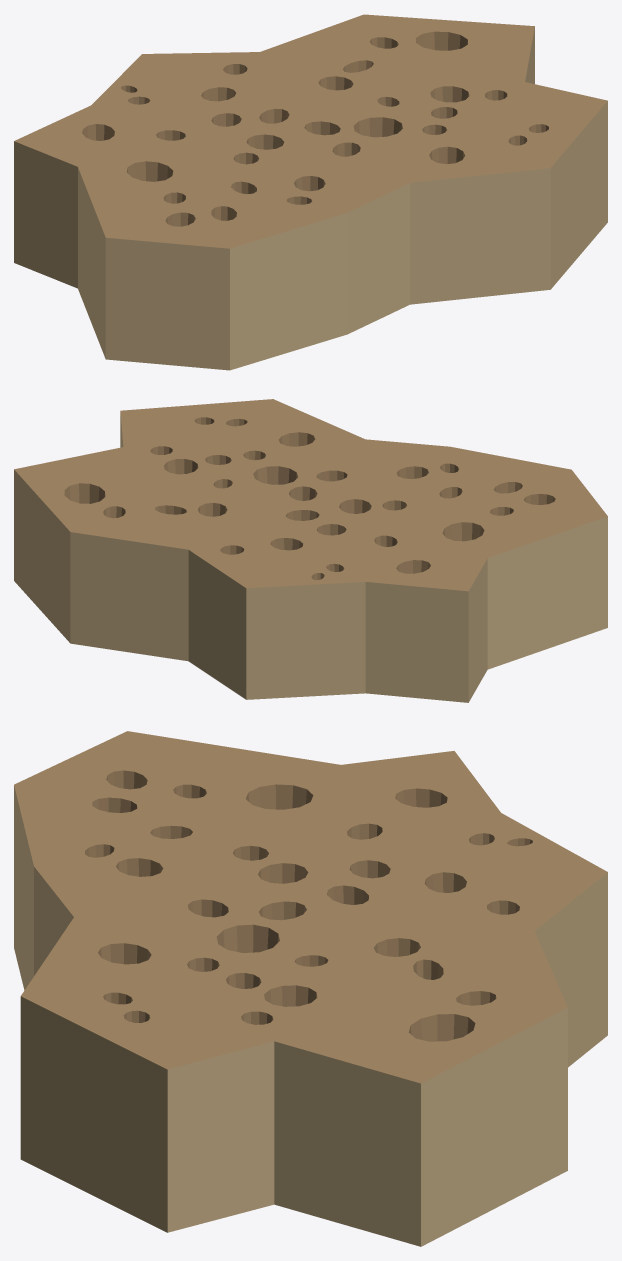
File: quatsinoporites.glb
3 renders of one model, top to bottom at view 1: azimuth 30°, elevation 25°; view 2: azimuth 150°, elevation 25°; view 3: azimuth 270°, elevation 25°, orthographic. The views are drawn at different scales.
Visible parts, largest first — view 1: abraded-fractured-pore-layer; view 2: abraded-fractured-pore-layer; view 3: abraded-fractured-pore-layer.
Part boxes in pixels (x1,y1,x2,y2): abraded-fractured-pore-layer: [14, 14, 607, 370]; abraded-fractured-pore-layer: [14, 399, 607, 702]; abraded-fractured-pore-layer: [14, 731, 607, 1246].
Bounding box in the file's own units: 0.125 × 0.027 × 0.089.
